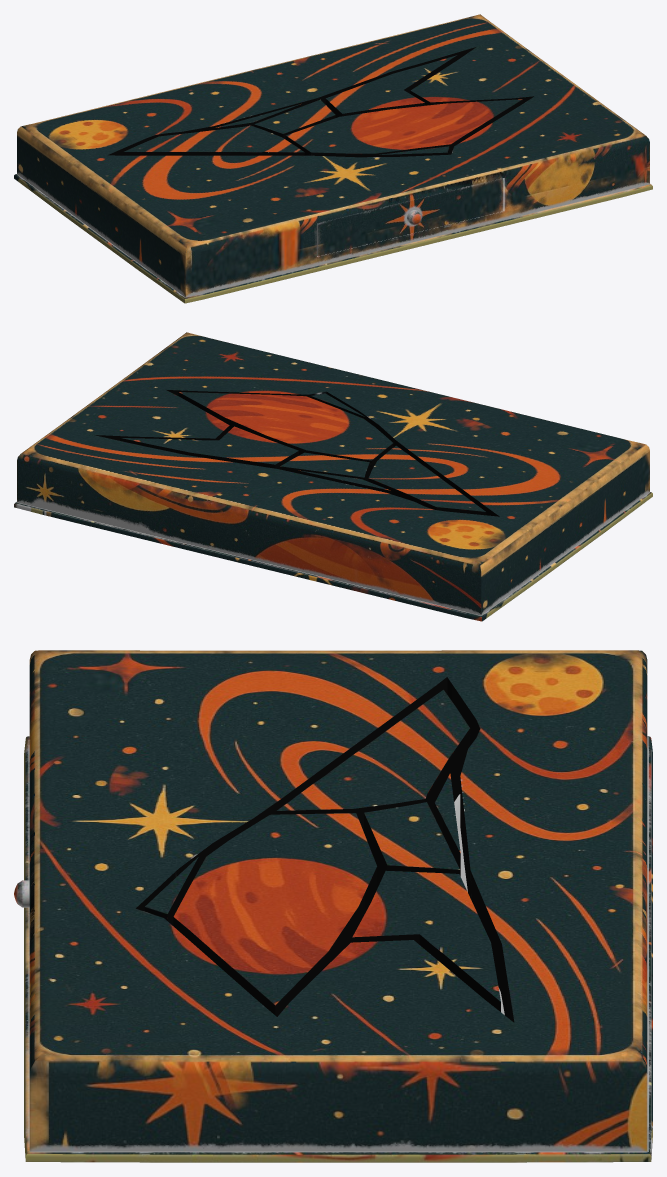
The model's file is Puzzle2.glb.
The picture shows the model from 3 angles, top to bottom: view 1: azimuth 30°, elevation 25°; view 2: azimuth 150°, elevation 25°; view 3: azimuth 270°, elevation 25°; orthographic projection. The views are drawn at different scales.
Visible parts, largest first — view 1: Puzzle2; view 2: Puzzle2; view 3: Puzzle2.
Boxes of the visible parts, <box> form: Puzzle2: <box>14,14,652,303</box>; Puzzle2: <box>14,332,652,621</box>; Puzzle2: <box>14,650,652,1162</box>.
Bounding box in the file's own units: 0.4171 × 0.047 × 0.2684.
1 material, 1 textured.
